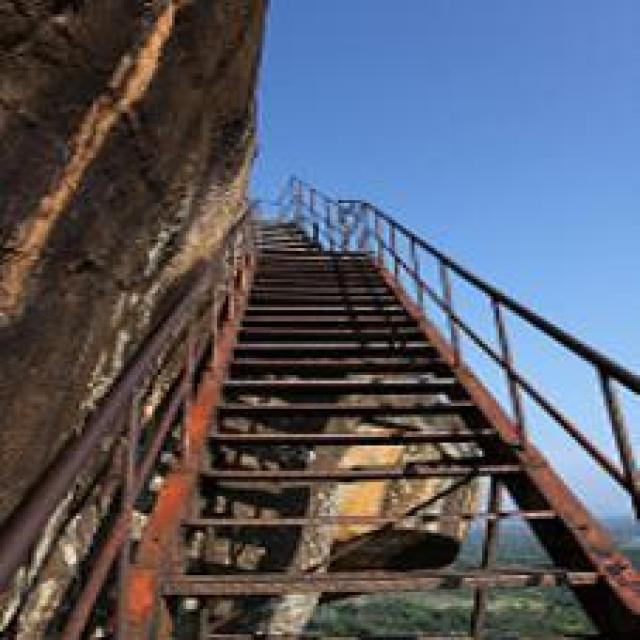upstair: (187, 345, 571, 610)
